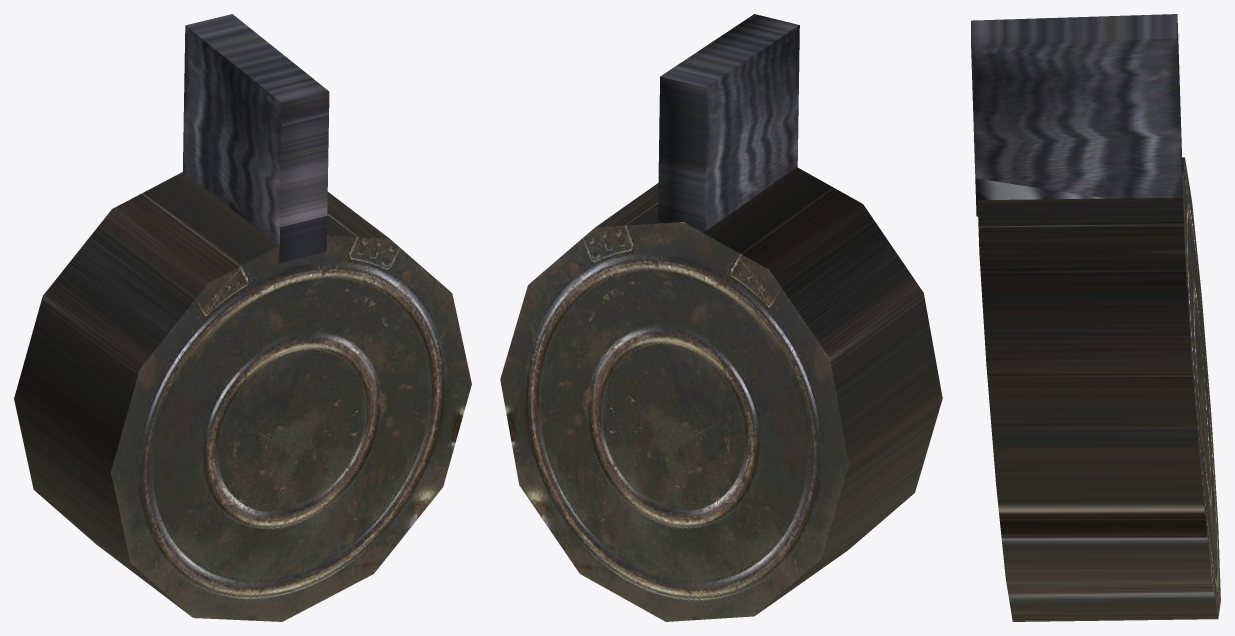
Rendered from ak47_drum.fbx.
3 views of the same model, side by side, from view 1: azimuth 30°, elevation 25°; view 2: azimuth 150°, elevation 25°; view 3: azimuth 270°, elevation 25° (orthographic). The views are drawn at different scales.
Parts seen in each view (by area): view 1: ak47_drum; view 2: ak47_drum; view 3: ak47_drum.
Part boxes in pixels (x1=…): ak47_drum: x1=14, y1=14, x2=471, y2=621; ak47_drum: x1=500, y1=14, x2=942, y2=621; ak47_drum: x1=971, y1=14, x2=1220, y2=621.
Bounding box in the file's own units: 6.31 × 9.11 × 3.56.
